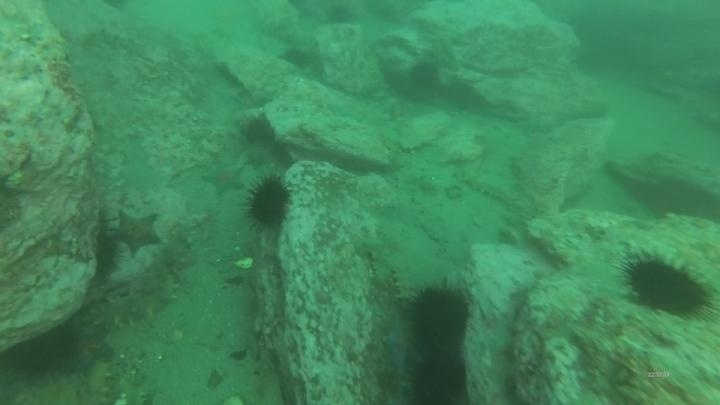echinus: (619, 250, 713, 319), (405, 281, 474, 352), (407, 352, 468, 405), (243, 173, 293, 231), (91, 231, 123, 280), (239, 113, 277, 148), (407, 59, 442, 93), (278, 45, 313, 72)
holothurian: (93, 265, 183, 331), (460, 169, 519, 205), (363, 250, 394, 303), (84, 356, 115, 405), (387, 265, 419, 310)
starfish: (64, 323, 117, 376), (108, 207, 164, 257), (380, 318, 425, 374), (200, 160, 247, 196)
